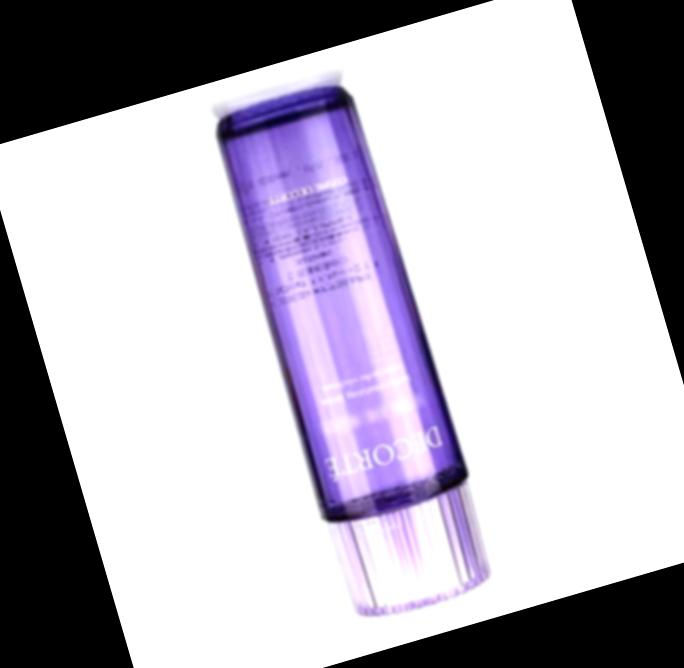cosmetic: (201, 72, 507, 623)
